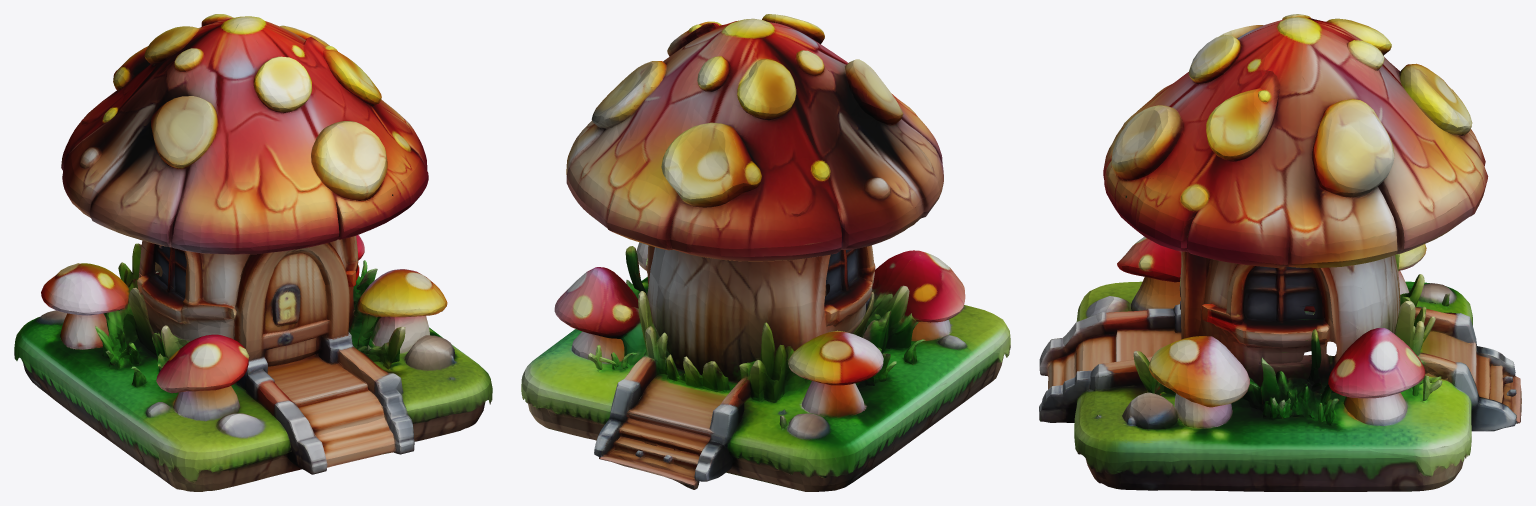
The model's file is crab_6.glb.
3 views of the same model, side by side, from view 1: azimuth 30°, elevation 25°; view 2: azimuth 150°, elevation 25°; view 3: azimuth 270°, elevation 25° (orthographic). The views are drawn at different scales.
Parts seen in each view (by area): view 1: world; view 2: world; view 3: world.
Part boxes in pixels (x1,y1,x2,y2): world: [14, 14, 492, 491]; world: [521, 14, 1010, 491]; world: [1039, 14, 1521, 491].
Size of the model in its own units: 0.793 by 0.8676 by 0.9653.
Materials: 1 (1 with a texture image).
